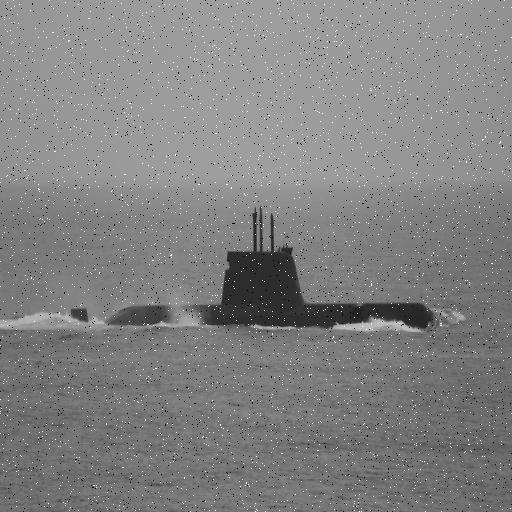submarine: (73, 202, 435, 323)
